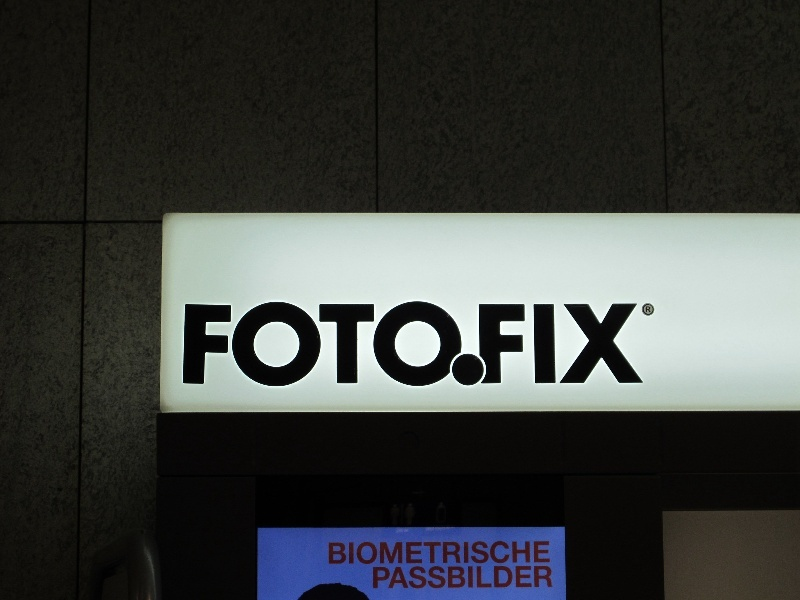text: (193, 294, 208, 393), (209, 294, 224, 393), (225, 294, 240, 393), (241, 294, 256, 393), (257, 294, 272, 393), (273, 294, 288, 393), (289, 294, 304, 393), (305, 294, 320, 393), (321, 294, 336, 393), (337, 294, 352, 393), (353, 294, 368, 393), (369, 294, 384, 393), (385, 294, 400, 393), (401, 294, 416, 393), (417, 294, 432, 393), (433, 294, 448, 393), (449, 294, 464, 393), (465, 294, 480, 393), (481, 294, 496, 393), (497, 294, 512, 393), (513, 294, 528, 393), (529, 294, 544, 393), (545, 294, 560, 393), (561, 294, 576, 393), (577, 294, 592, 393), (593, 294, 608, 393), (609, 294, 624, 393), (625, 294, 640, 393), (182, 294, 192, 393), (641, 294, 646, 393), (385, 564, 400, 593), (401, 564, 416, 593), (417, 564, 432, 593), (433, 564, 448, 593), (449, 564, 464, 593), (465, 564, 480, 593), (481, 564, 496, 593), (497, 564, 512, 593), (513, 564, 528, 593), (529, 564, 544, 593), (370, 564, 384, 593), (337, 542, 352, 568), (353, 542, 368, 568), (369, 542, 384, 568), (385, 542, 400, 568), (401, 542, 416, 568), (417, 542, 432, 568), (433, 542, 448, 568), (449, 542, 464, 568), (465, 542, 480, 568), (481, 542, 496, 568), (497, 542, 512, 568), (513, 542, 528, 568), (529, 542, 544, 568), (545, 564, 556, 593), (545, 542, 555, 568), (327, 542, 336, 568), (645, 305, 656, 315)
